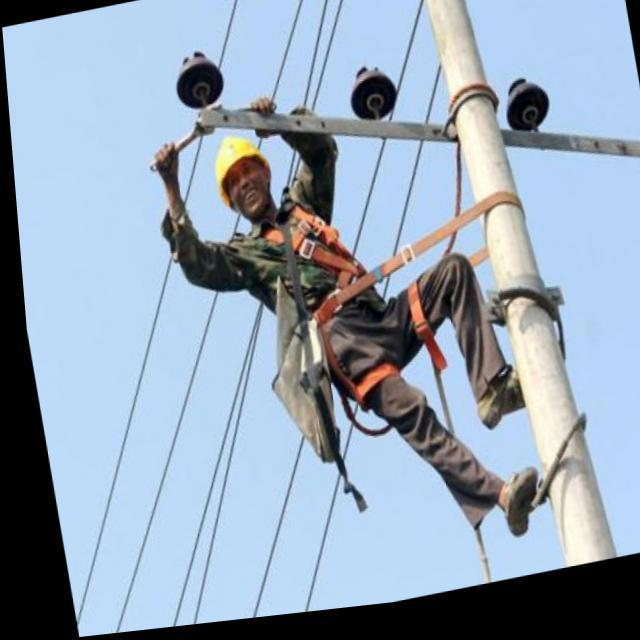belt: (257, 214, 492, 466)
